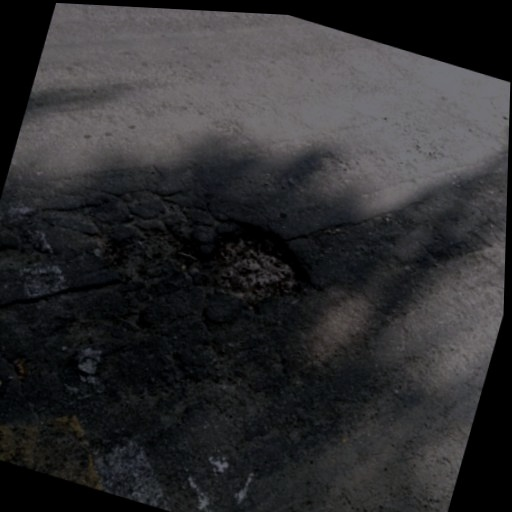pothole: (194, 209, 332, 325), (97, 211, 207, 298)
